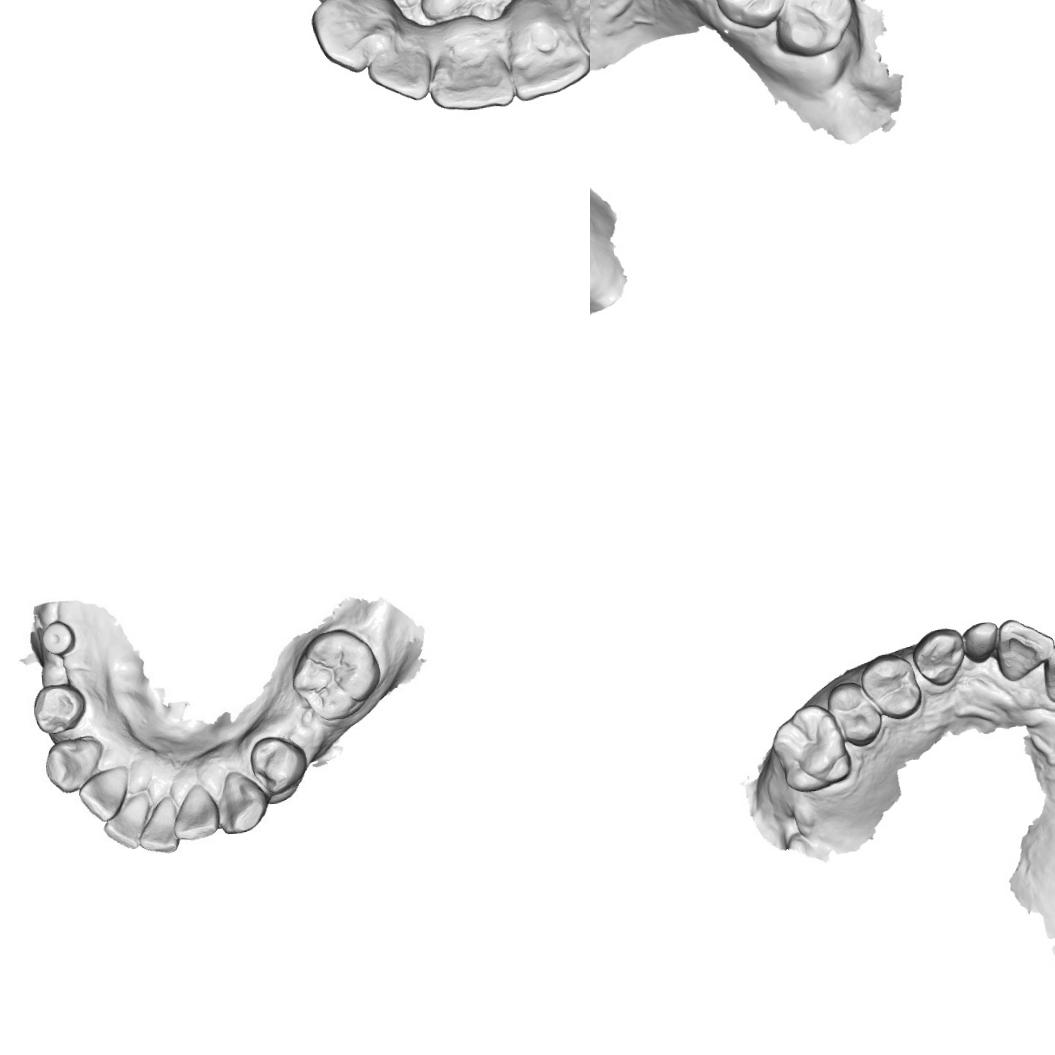canine: (305, 0, 383, 76), (40, 734, 106, 796), (215, 764, 270, 836), (909, 626, 967, 688)
crown: (959, 619, 1000, 664)
implant: (40, 616, 78, 654)
incisor: (425, 47, 517, 116), (503, 33, 590, 104), (362, 44, 436, 104), (993, 614, 1055, 682), (76, 766, 133, 825), (132, 798, 180, 858), (100, 792, 146, 853), (176, 782, 219, 838), (1040, 639, 1055, 703)
molar: (769, 701, 853, 794), (290, 630, 378, 718), (770, 0, 858, 61), (705, 0, 800, 33)
premolar: (858, 651, 923, 722), (824, 678, 884, 749), (252, 735, 306, 798), (31, 678, 86, 736)
